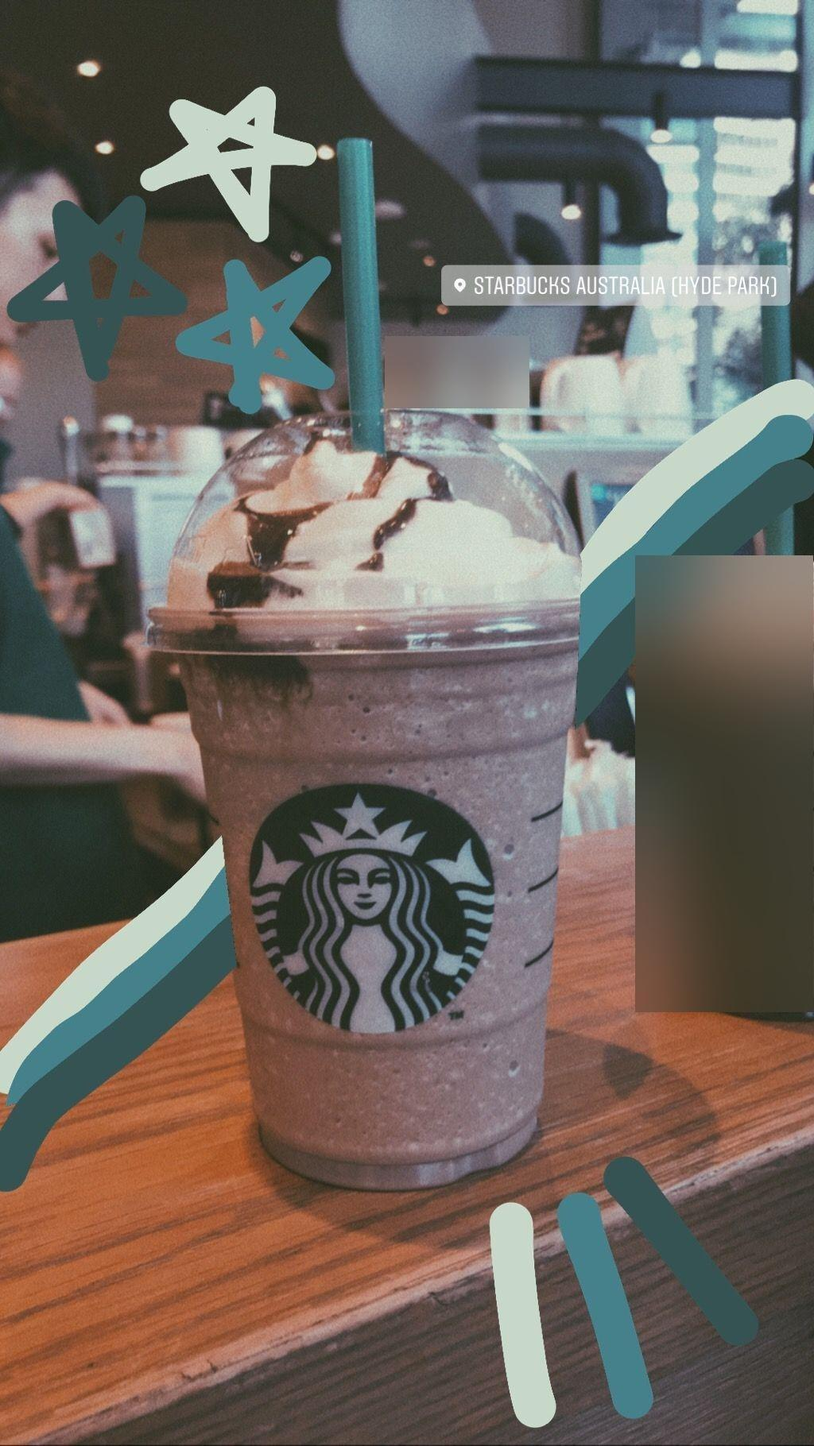cup-disposable: (145, 404, 587, 1193)
